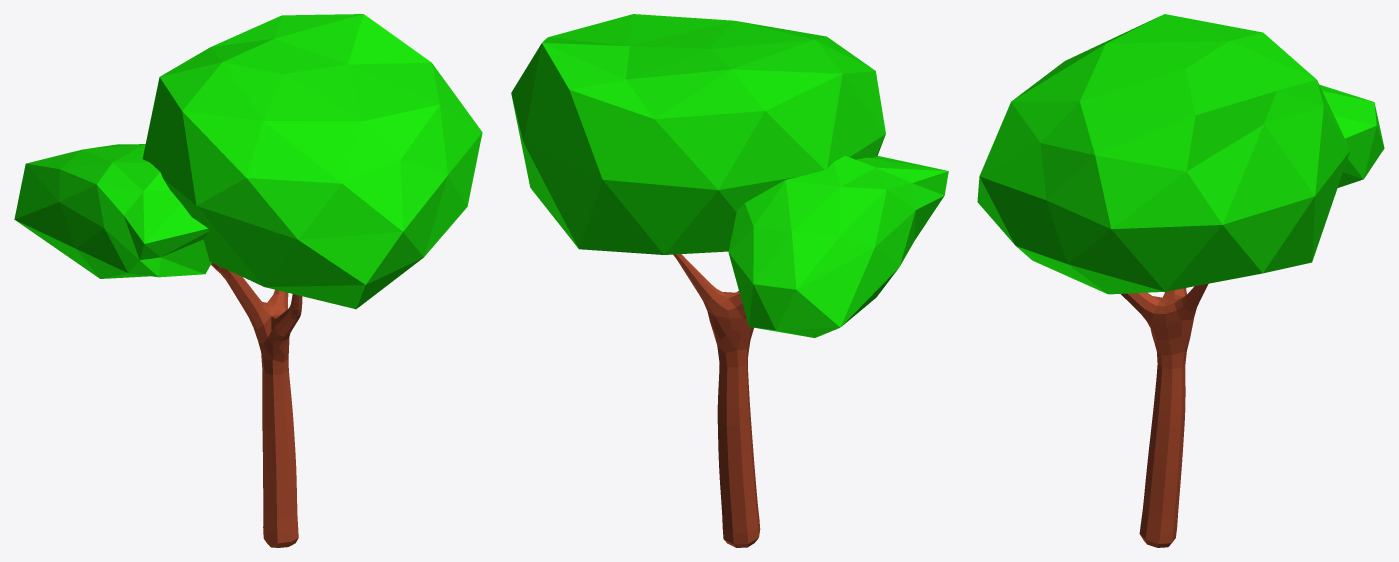
File: JambTree1.fbx
3 views of the same model, side by side, from view 1: azimuth 30°, elevation 25°; view 2: azimuth 150°, elevation 25°; view 3: azimuth 270°, elevation 25° (orthographic). The views are drawn at different scales.
Parts seen in each view (by area): view 1: Icosphere.001; view 2: Icosphere.001; view 3: Icosphere.001.
Part boxes in pixels (bbox=[...]): Icosphere.001: bbox=[14, 14, 482, 547]; Icosphere.001: bbox=[511, 14, 948, 547]; Icosphere.001: bbox=[977, 14, 1384, 547].
Bounding box in the file's own units: 4827 × 5973 × 4490.
